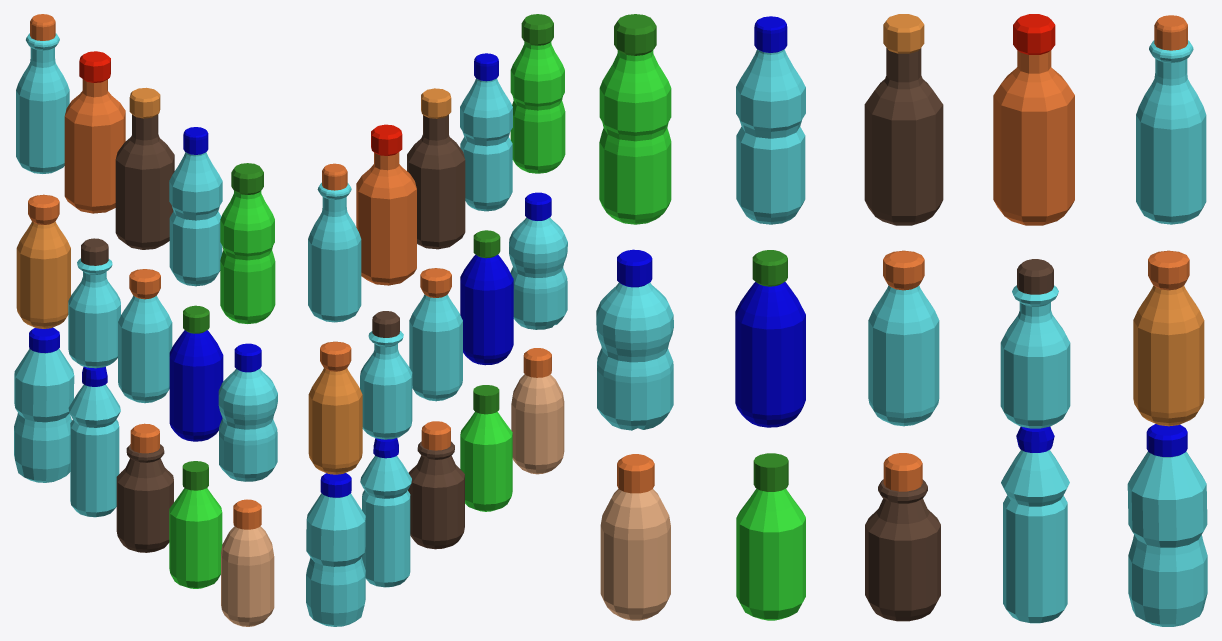
File: Plasticbottles.fbx
3 views of the same model, side by side, from view 1: azimuth 30°, elevation 25°; view 2: azimuth 150°, elevation 25°; view 3: azimuth 270°, elevation 25° (orthographic). The views are drawn at different scales.
Visible parts, largest first — view 1: Circle.013, Circle.003, Circle, Circle.030, Circle.001, Circle.005, Circle.012, Circle.004, Circle.002, Circle.006, Circle.007, Circle.011 (+3 smaller); view 2: Circle.013, Circle.003, Circle, Circle.030, Circle.004, Circle.001, Circle.005, Circle.012, Circle.002, Circle.006, Circle.007, Circle.011 (+3 smaller); view 3: Circle.003, Circle.013, Circle.030, Circle, Circle.001, Circle.004, Circle.005, Circle.012, Circle.006, Circle.007, Circle.002, Circle.011 (+3 smaller).
Part boxes in pixels (bbox=[...]): Circle.013: bbox=[14, 327, 74, 482]; Circle.003: bbox=[64, 51, 125, 213]; Circle: bbox=[220, 163, 275, 323]; Circle.030: bbox=[115, 87, 174, 249]; Circle.001: bbox=[169, 127, 222, 286]; Circle.005: bbox=[218, 343, 277, 481]; Circle.012: bbox=[68, 366, 120, 517]; Circle.004: bbox=[16, 14, 69, 173]; Circle.002: bbox=[16, 194, 70, 328]; Circle.006: bbox=[169, 305, 223, 441]; Circle.007: bbox=[118, 269, 172, 403]; Circle.011: bbox=[116, 423, 173, 552]; Circle.013: bbox=[306, 473, 365, 626]; Circle.003: bbox=[356, 124, 416, 285]; Circle: bbox=[510, 14, 565, 173]; Circle.030: bbox=[407, 88, 465, 249]; Circle.004: bbox=[308, 163, 361, 322]; Circle.001: bbox=[460, 53, 512, 211]; Circle.005: bbox=[509, 192, 567, 329]; Circle.012: bbox=[360, 438, 411, 587]; Circle.002: bbox=[308, 341, 362, 474]; Circle.006: bbox=[460, 230, 513, 365]; Circle.007: bbox=[409, 268, 462, 401]; Circle.011: bbox=[408, 421, 464, 549]; Circle.003: bbox=[993, 14, 1074, 225]; Circle.013: bbox=[1127, 424, 1207, 626]; Circle.030: bbox=[864, 14, 943, 225]; Circle: bbox=[599, 14, 671, 224]; Circle.001: bbox=[736, 16, 805, 224]; Circle.004: bbox=[1136, 15, 1206, 224]; Circle.005: bbox=[596, 249, 673, 430]; Circle.012: bbox=[1001, 426, 1069, 623]; Circle.006: bbox=[735, 250, 805, 427]; Circle.007: bbox=[868, 250, 939, 426]; Circle.002: bbox=[1133, 250, 1204, 426]; Circle.011: bbox=[865, 453, 940, 621].
Bounding box in the file's own units: 34.21 × 289 × 269.
